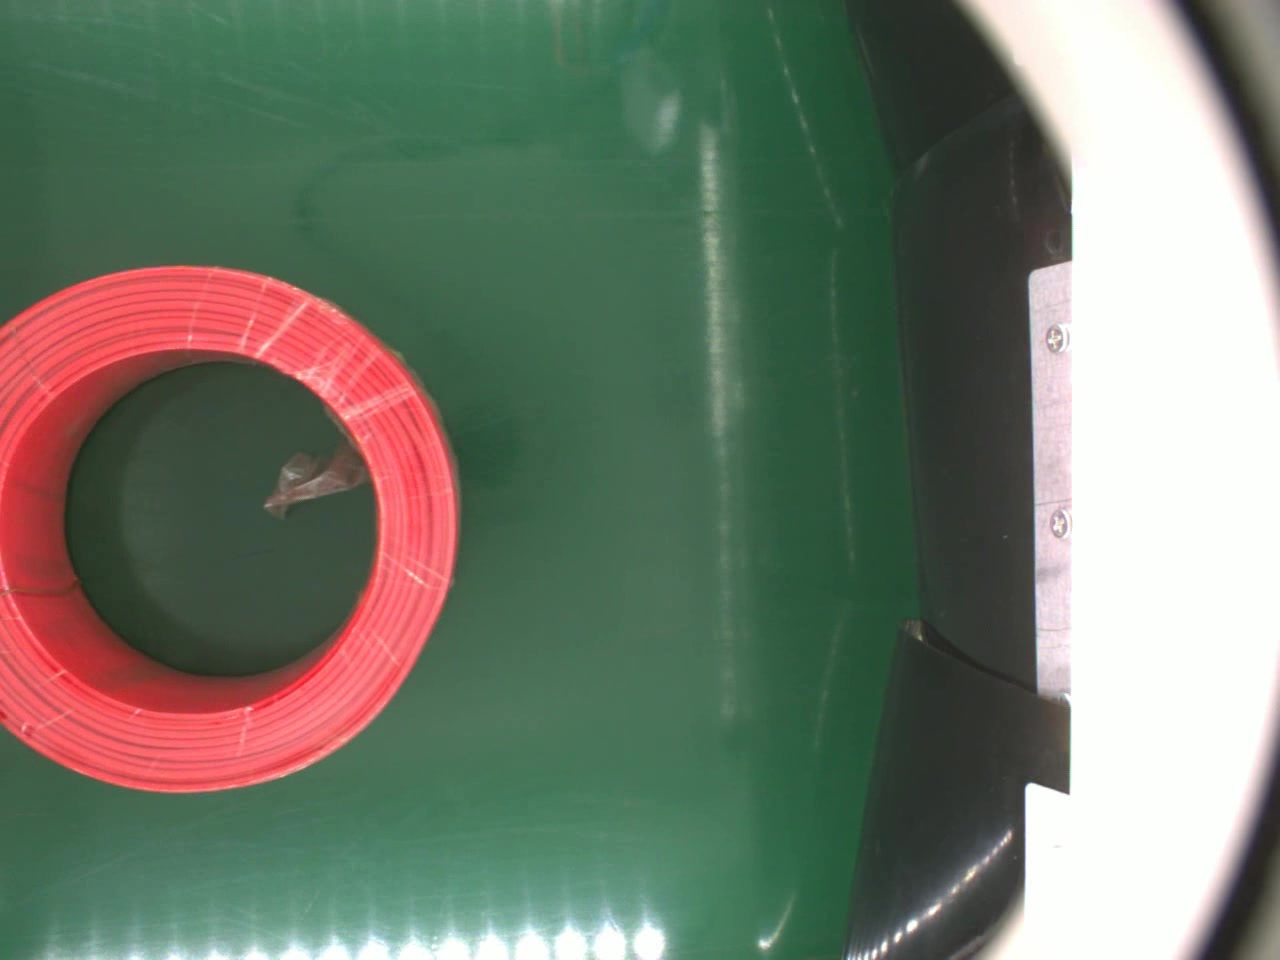red: (0, 261, 461, 792)
